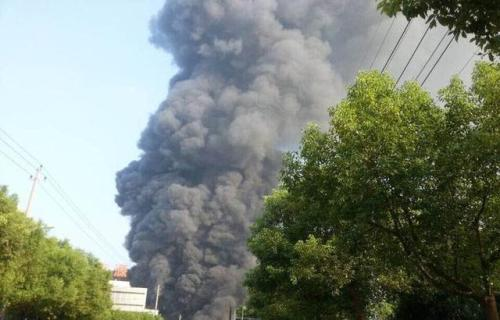smoke: (115, 1, 317, 319)
